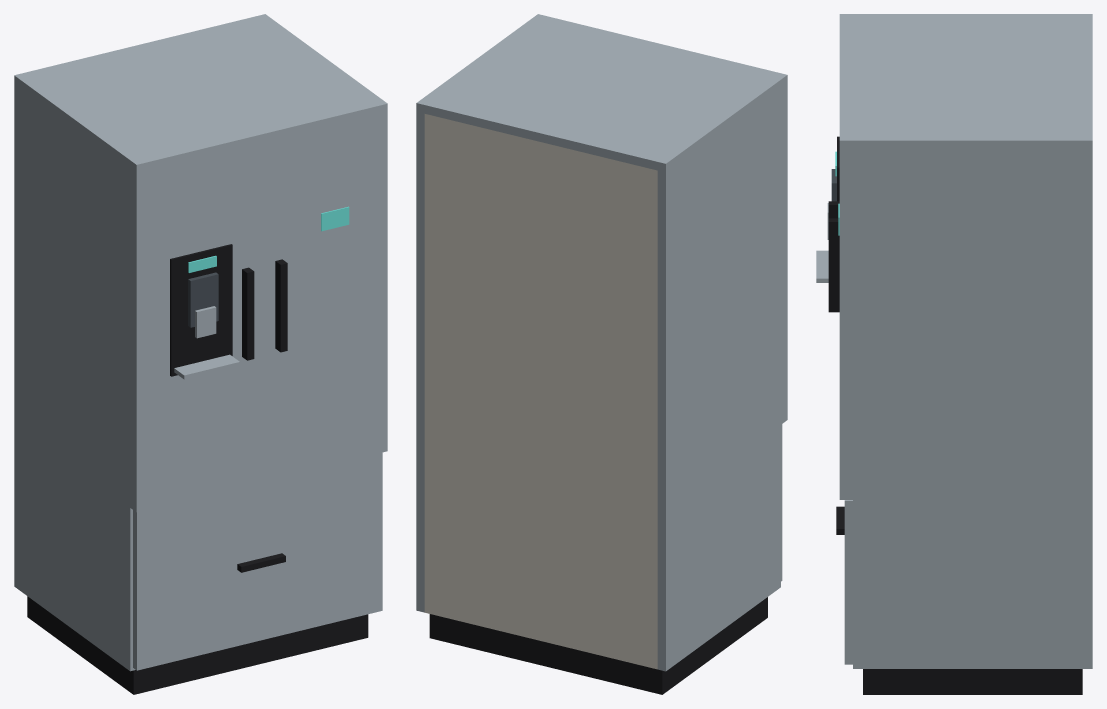
Rendered from GI_Fridge_Dispenser_01.glb.
3 renders of one model, left to right at view 1: azimuth 30°, elevation 25°; view 2: azimuth 150°, elevation 25°; view 3: azimuth 270°, elevation 25°, orthographic. The views are drawn at different scales.
Visible parts, largest first — view 1: GI_Fridge_Dispenser_01, DoorL, DoorR, DrawerFreezer; view 2: GI_Fridge_Dispenser_01, DoorL, DoorR; view 3: GI_Fridge_Dispenser_01, DoorR, DoorL, DrawerFreezer.
Boxes of the visible parts, x1,y1,x2,y2 form: GI_Fridge_Dispenser_01: [14, 14, 380, 694]; DoorL: [130, 129, 262, 512]; DoorR: [256, 99, 387, 481]; DrawerFreezer: [133, 452, 382, 670]; GI_Fridge_Dispenser_01: [416, 18, 780, 694]; DoorL: [657, 44, 787, 424]; DoorR: [532, 14, 662, 48]; GI_Fridge_Dispenser_01: [853, 14, 1092, 694]; DoorR: [828, 77, 852, 499]; DoorL: [816, 14, 852, 282]; DrawerFreezer: [836, 500, 852, 664].
Bounding box in the file's own units: 0.9 × 1.85 × 0.83.
2 materials, 2 textured.
